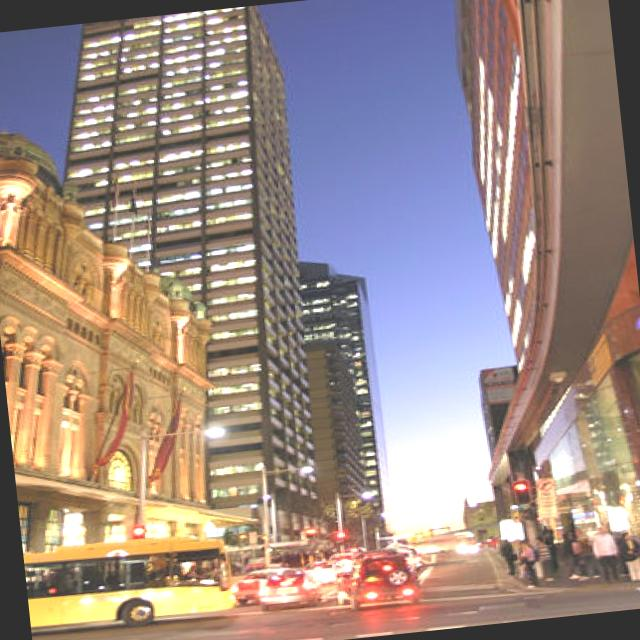Vehicle: (22, 529, 238, 638), (228, 564, 306, 604), (256, 570, 326, 612), (352, 574, 420, 610), (302, 558, 340, 588), (327, 552, 357, 577)
